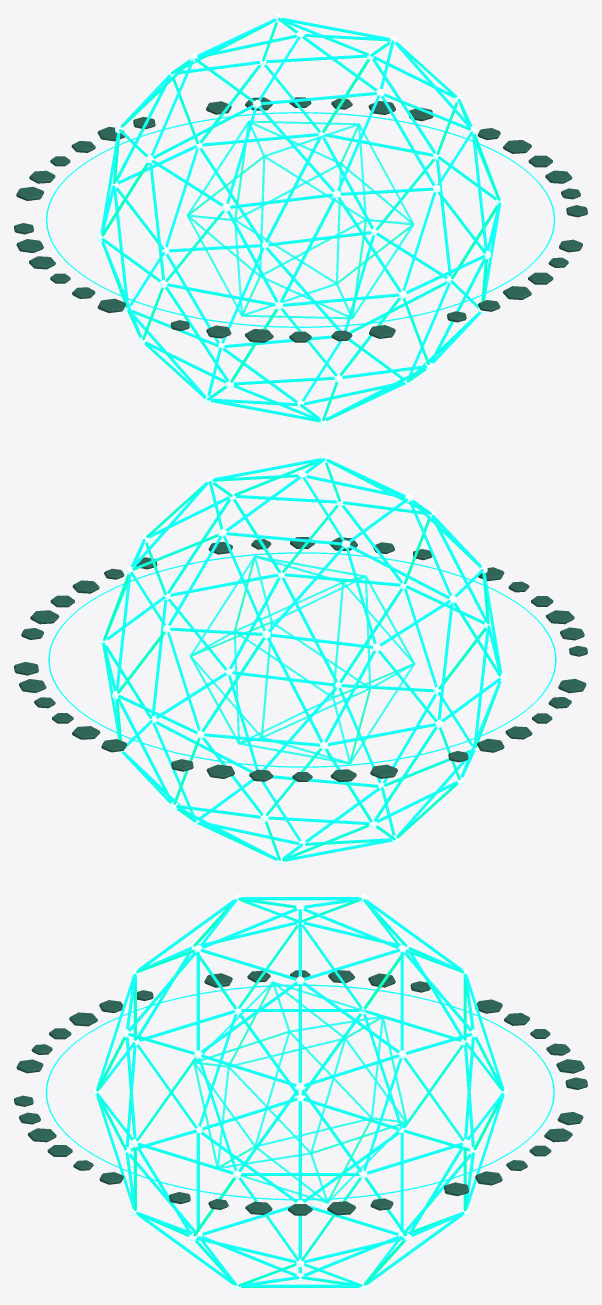
Rendered from kern.glb.
3 views of the same model, one above another, from view 1: azimuth 30°, elevation 25°; view 2: azimuth 150°, elevation 25°; view 3: azimuth 270°, elevation 25° (orthographic).
Visible parts, largest first — view 1: Gitter, Ring, Innen, Knoten, Spur; view 2: Gitter, Ring, Innen, Knoten, Spur; view 3: Gitter, Ring, Innen, Knoten, Spur.
Part boxes in pixels (left/top/right/bottom): Gitter: left=100, top=17, right=500, bottom=422; Ring: left=14, top=97, right=587, bottom=342; Innen: left=186, top=120, right=414, bottom=319; Knoten: left=97, top=14, right=504, bottom=425; Spur: left=46, top=112, right=554, bottom=327; Gitter: left=102, top=458, right=502, bottom=861; Ring: left=14, top=537, right=587, bottom=781; Innen: left=189, top=555, right=415, bottom=764; Knoten: left=99, top=454, right=505, bottom=865; Spur: left=48, top=552, right=556, bottom=767; Gitter: left=96, top=897, right=504, bottom=1287; Ring: left=14, top=970, right=587, bottom=1215; Innen: left=193, top=981, right=407, bottom=1203; Knoten: left=92, top=894, right=508, bottom=1290; Spur: left=45, top=984, right=554, bottom=1200.
Size of the model in its own units: 2.82 by 2.05 by 2.82.
